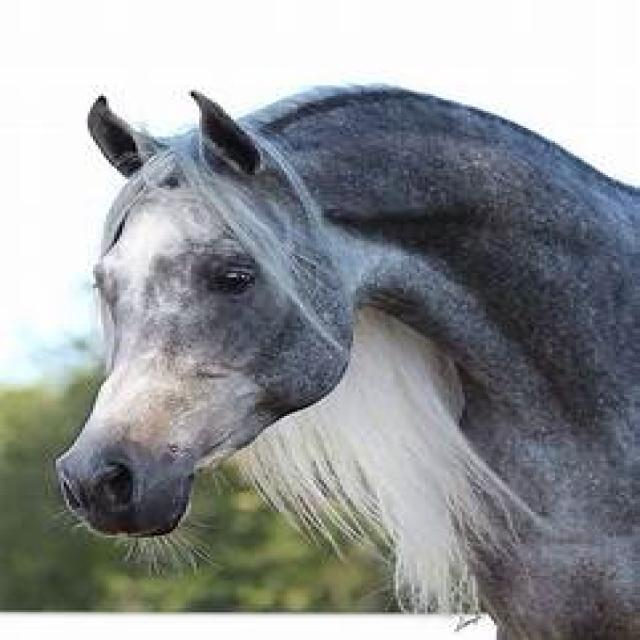animal: (50, 81, 638, 638)
